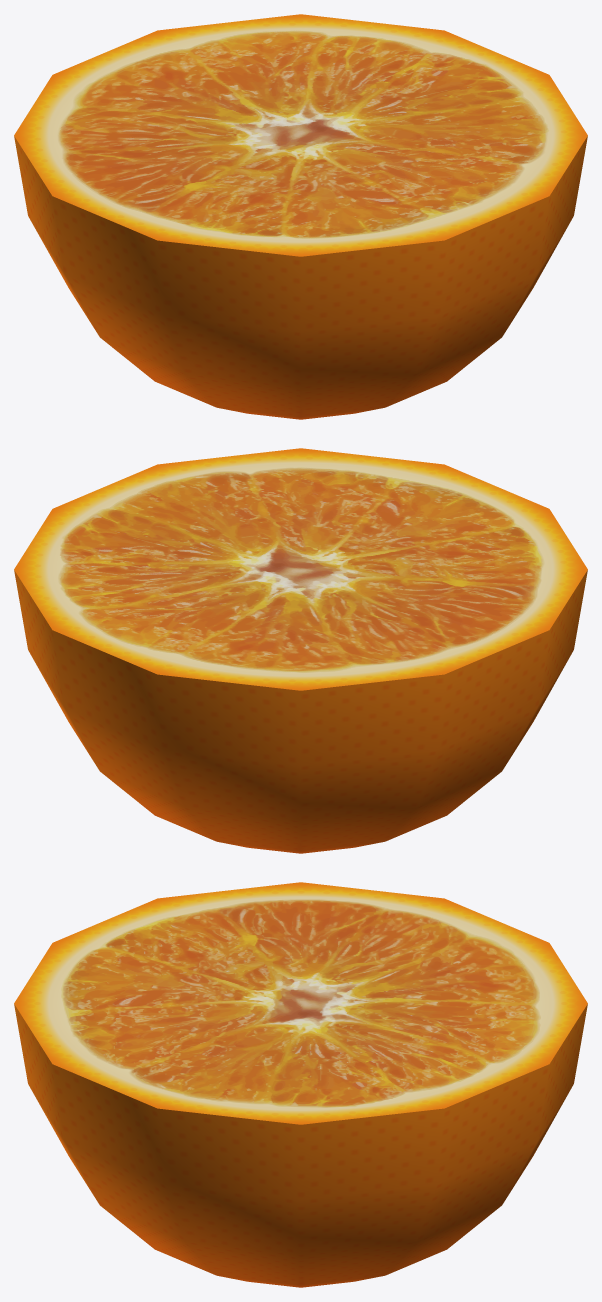
File: Orange_Half_Bottom.fbx
The picture shows the model from 3 angles, top to bottom: view 1: azimuth 30°, elevation 25°; view 2: azimuth 150°, elevation 25°; view 3: azimuth 270°, elevation 25°; orthographic projection.
Parts seen in each view (by area): view 1: Orange_Half_Bottom; view 2: Orange_Half_Bottom; view 3: Orange_Half_Bottom.
Boxes of the visible parts, left/top/right/bottom form: Orange_Half_Bottom: left=14, top=14, right=587, bottom=419; Orange_Half_Bottom: left=14, top=448, right=587, bottom=853; Orange_Half_Bottom: left=14, top=882, right=587, bottom=1287.
Bounding box in the file's own units: 1.81 × 0.8722 × 1.81.
